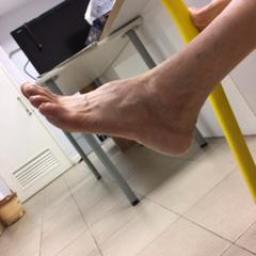Lateral View -Left Foot-: (10, 52, 218, 166)
